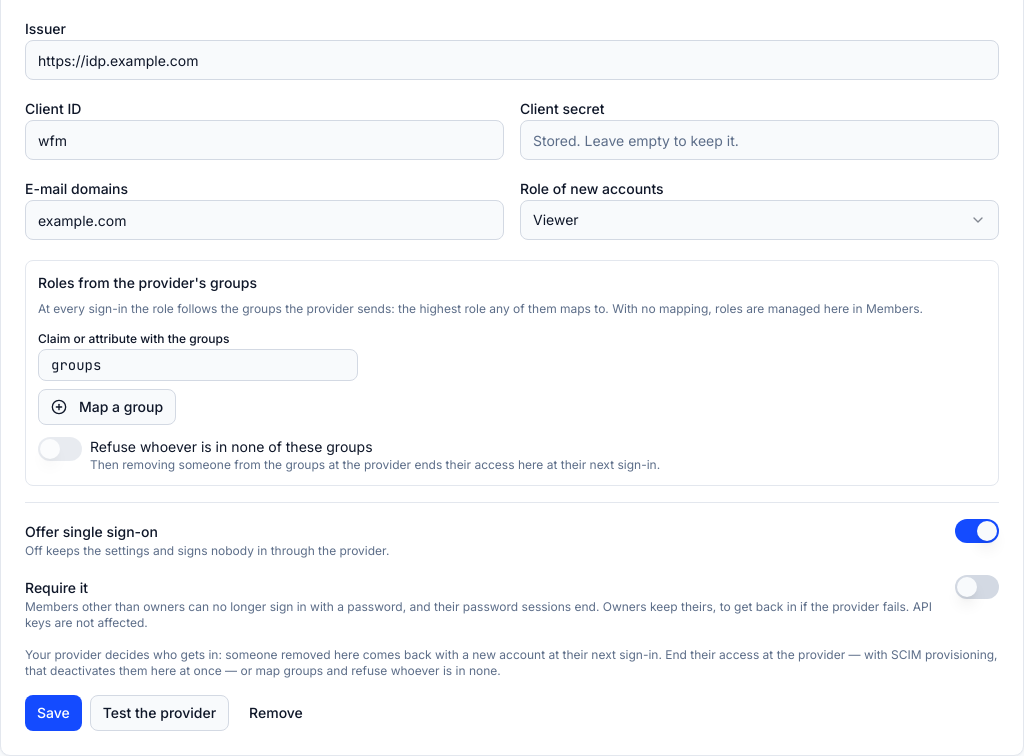
Scenario: SsoCard › says when the provider does not answer
The image size is (1024, 756).
(page scrolled)
Click the button "Test the provider" at (159, 713), box [90,695,229,731]
(page scrolled)
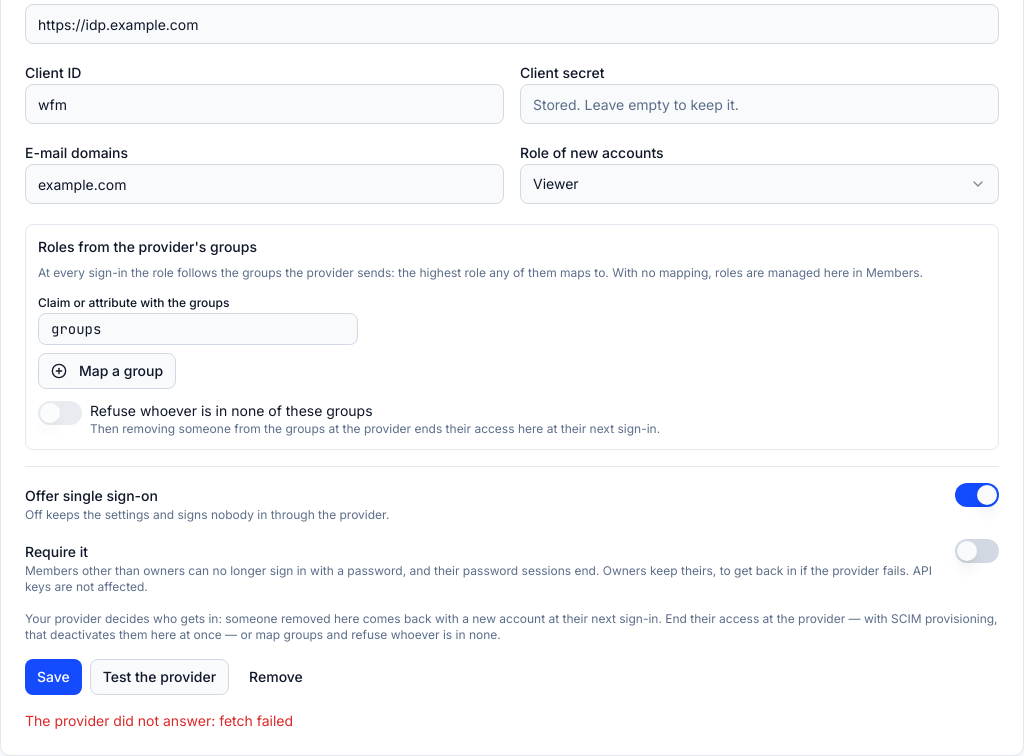
Now the text with test id "sso-error" reads "The provider did not answer: fetch failed", box [25,712,293,729]
